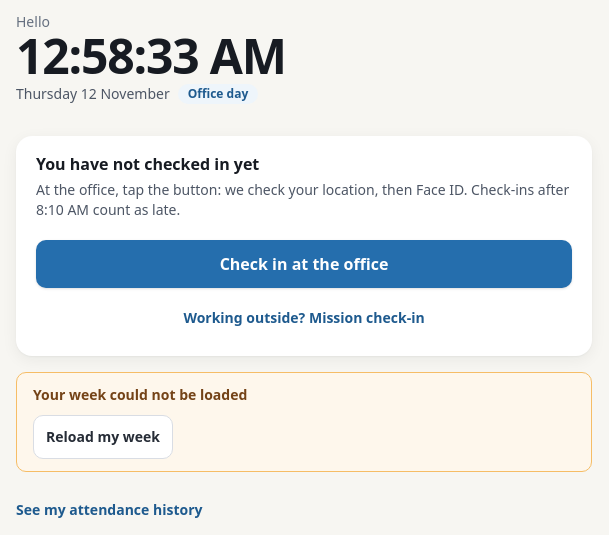
Test: Today screen fixes › shows the elapsed time and an early hint while the position is poor (UX34-03)
This screenshot has width=609, height=535.
Click the button "Check in at the office" at coordinates (304, 264), box [36,240,572,288]
Wait 11000 ms
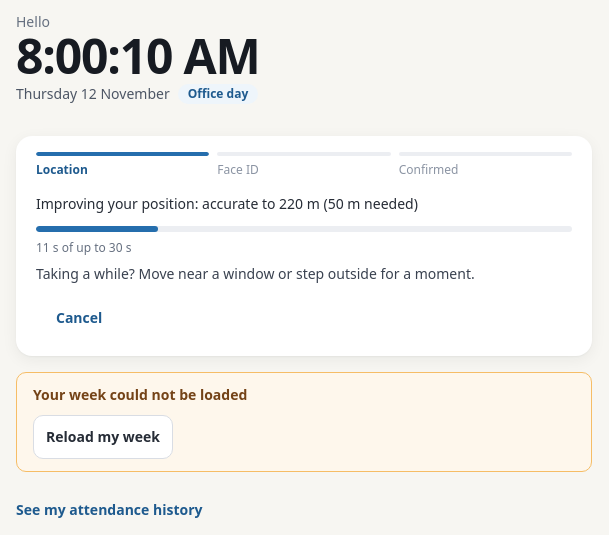
Now the element with test id "locate-timer" shows "of up to 30 s", box [36,239,475,283]
Now the text with test id "locate-hint" shows "window", box [36,264,475,283]
